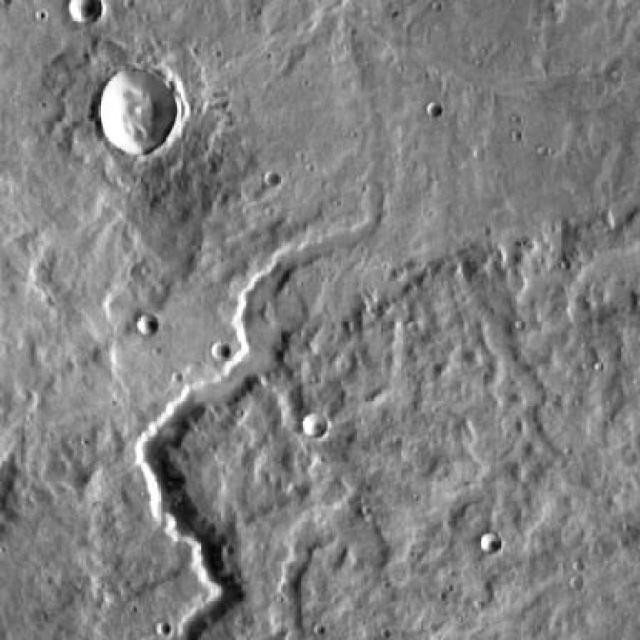crater: (101, 65, 184, 148), (68, 1, 103, 30), (302, 413, 326, 438), (481, 534, 501, 554), (137, 314, 157, 334), (208, 341, 226, 359), (262, 172, 280, 190), (428, 105, 446, 122), (568, 576, 584, 592)
